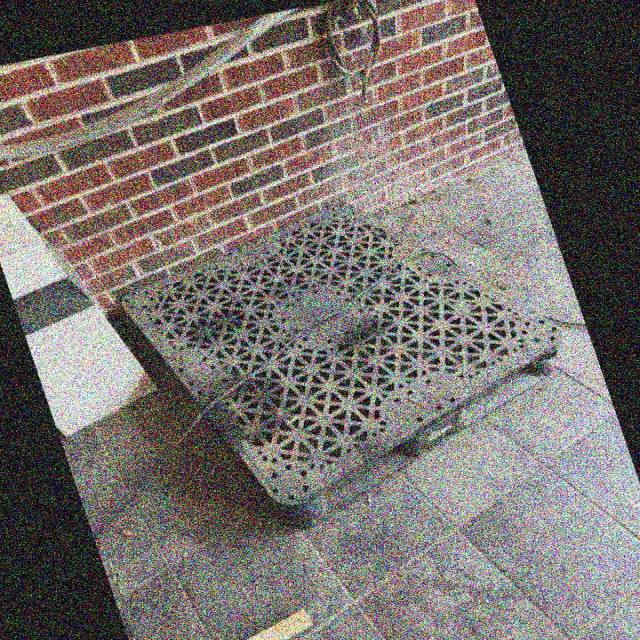non-igps: (108, 197, 571, 535)
